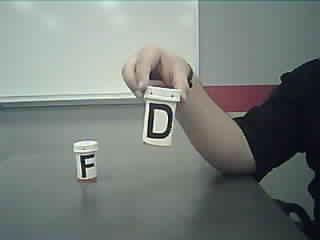Bottle D: (141, 83, 184, 155)
Bottle F: (70, 138, 102, 186)
